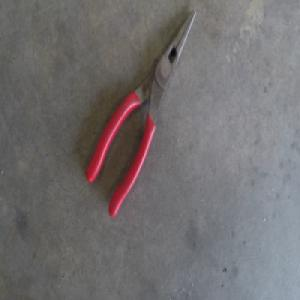Pliers: (87, 15, 195, 216)
